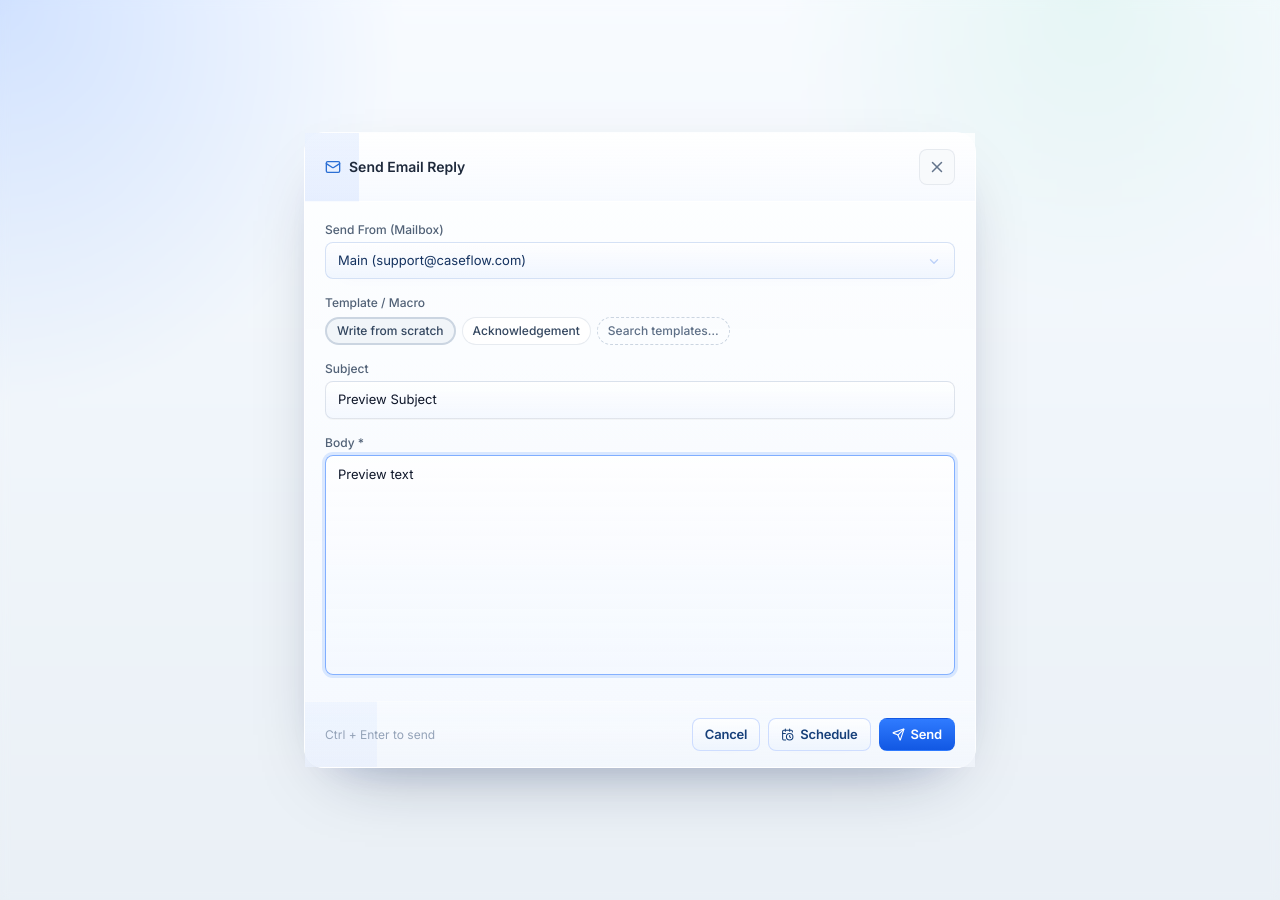
Test: EmailReplyComposer › clearing a selected template via compact card restores the quick macro row
Step 1. Click the button "Acknowledgement" → (526, 331), box top-left (462, 317), bottom-right (591, 345)
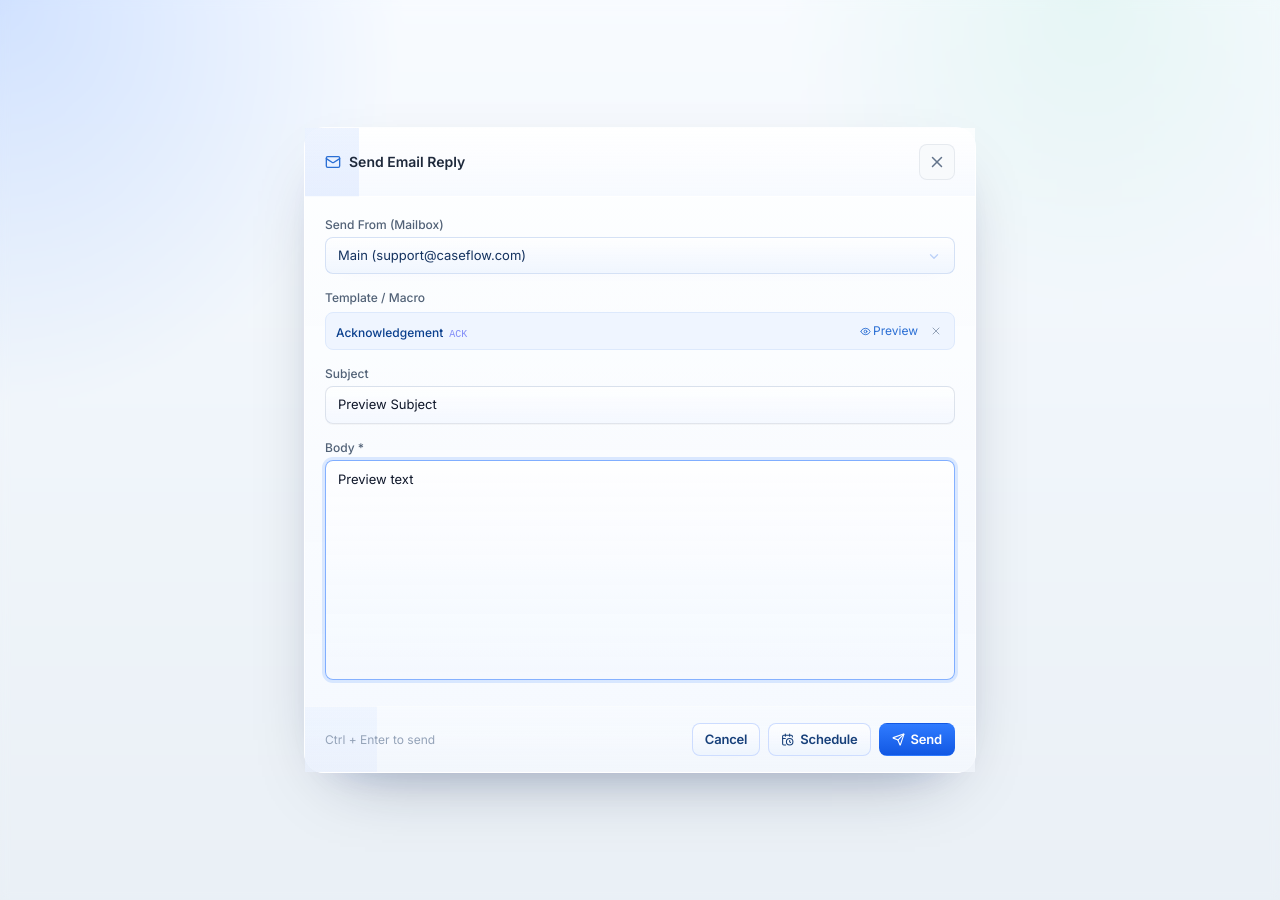
Now the button named "Clear template" is shown
Step 2. Click the button named "Clear template" → (936, 331), box top-left (928, 323), bottom-right (944, 339)
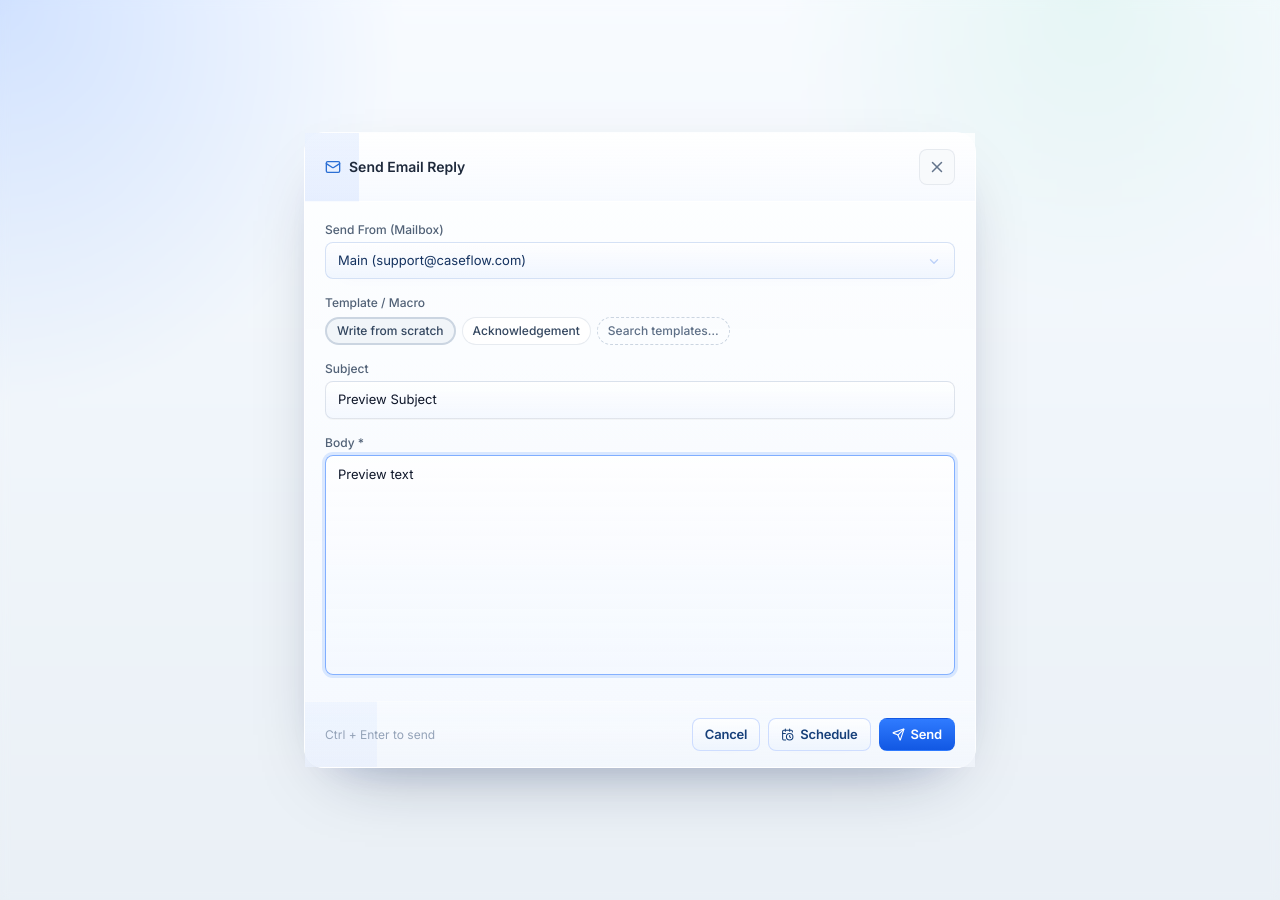
Expected: the button "Acknowledgement" is shown, top-left (462, 317), bottom-right (591, 345)
Now the button "Write from scratch" is shown, box top-left (325, 317), bottom-right (456, 345)
